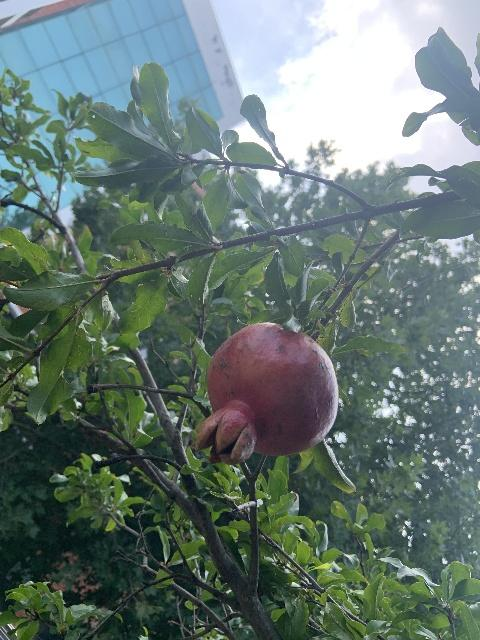ripe: (194, 323, 337, 463)
